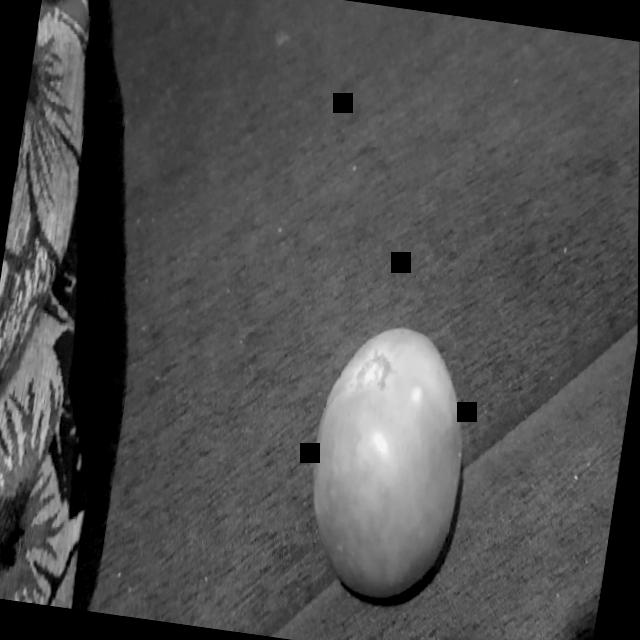tomato: (283, 309, 496, 620)
